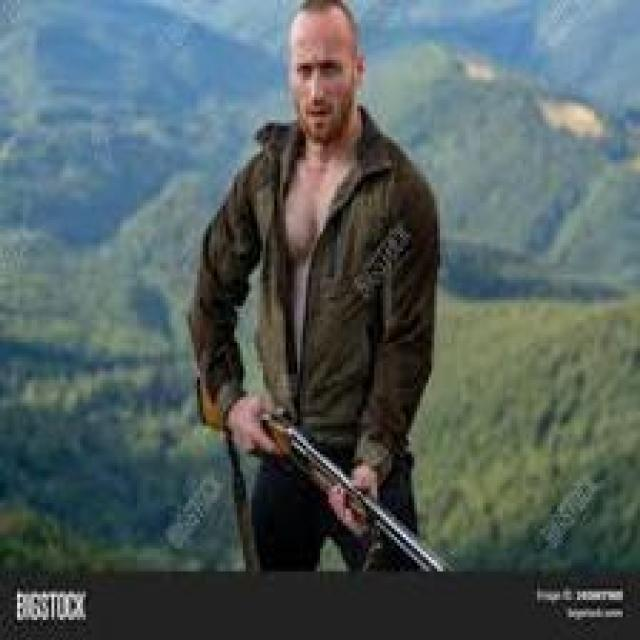Rifle: (183, 376, 471, 574)
